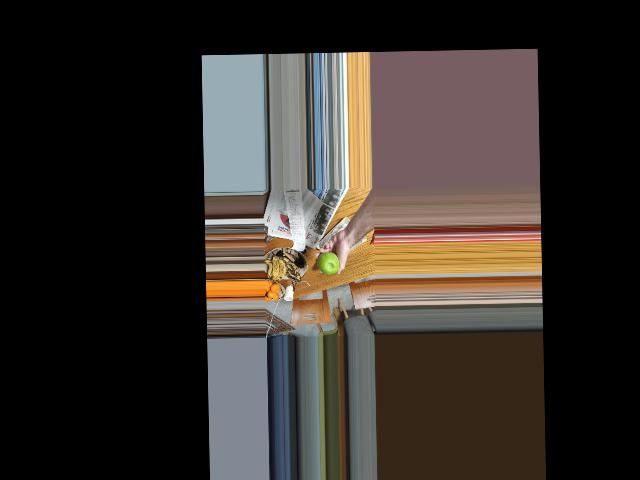apple: (316, 249, 340, 278)
